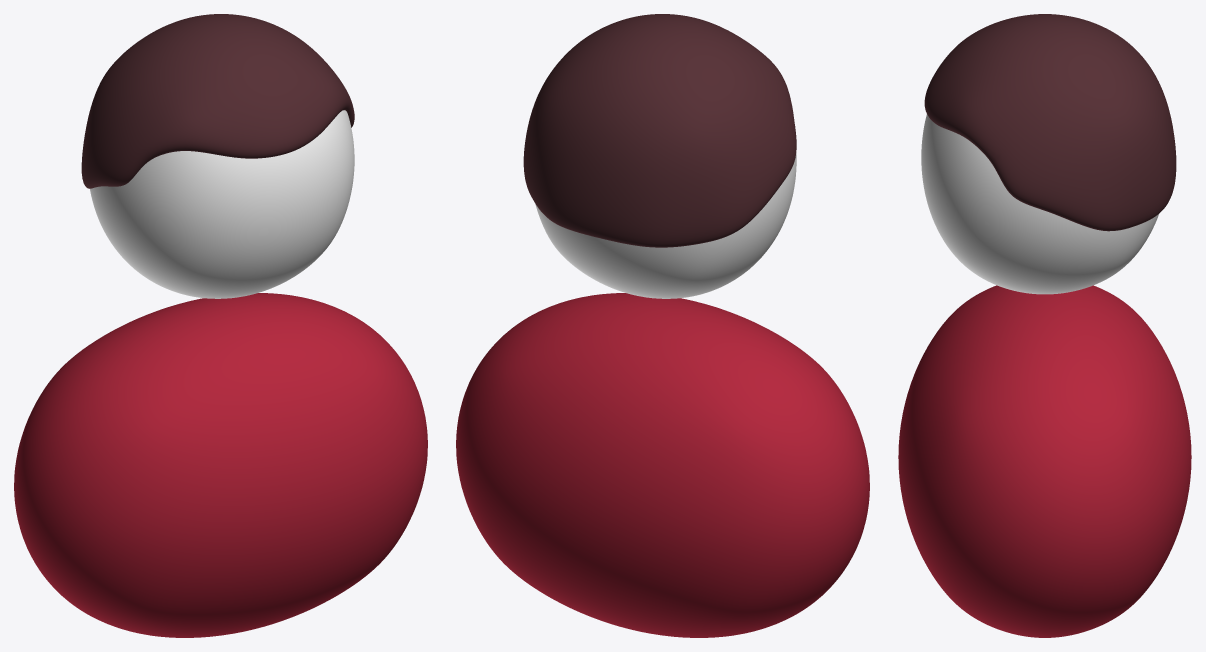
File: boy.glb
3 views of the same model, side by side, from view 1: azimuth 30°, elevation 25°; view 2: azimuth 150°, elevation 25°; view 3: azimuth 270°, elevation 25° (orthographic).
Visible parts, largest first — view 1: Boy; view 2: Boy; view 3: Boy.
Boxes of the visible parts, box(x1,y1,x2,y2) form: Boy: box(14, 14, 427, 637); Boy: box(456, 14, 869, 637); Boy: box(898, 14, 1191, 637).
Size of the model in its own units: 123 by 183 by 83.19.
